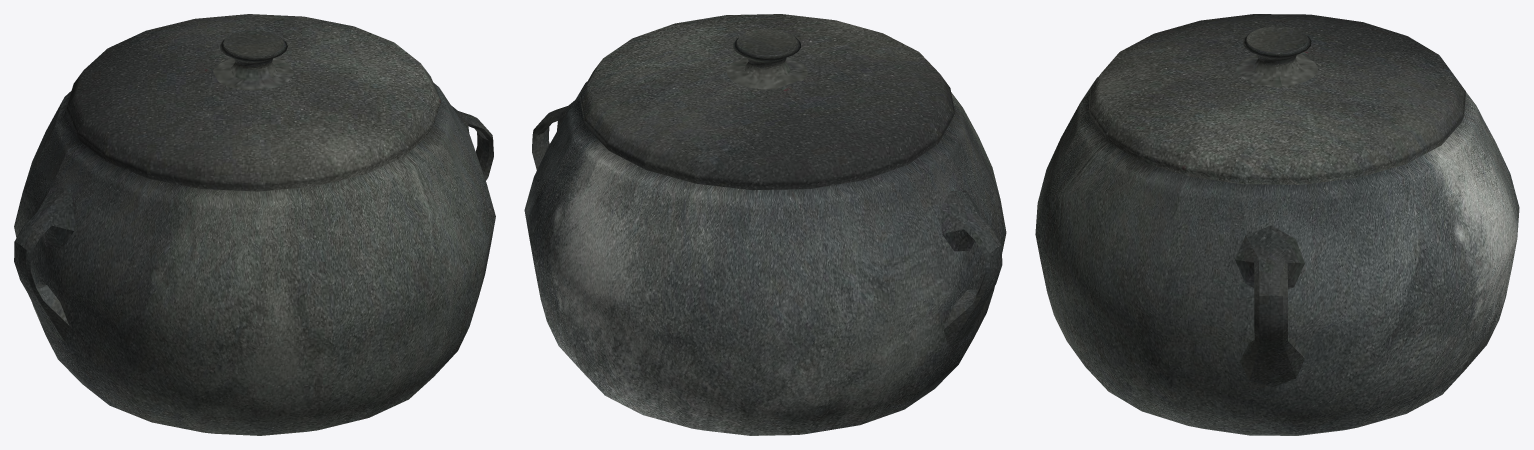
Rendered from Cauldron_01.fbx.
The picture shows the model from 3 angles, left to right: view 1: azimuth 30°, elevation 25°; view 2: azimuth 150°, elevation 25°; view 3: azimuth 270°, elevation 25°; orthographic projection.
Parts seen in each view (by area): view 1: pCylinder2; view 2: pCylinder2; view 3: pCylinder2.
Boxes of the visible parts, left/top/right/bottom form: pCylinder2: left=14, top=14, right=495, bottom=435; pCylinder2: left=524, top=14, right=1006, bottom=435; pCylinder2: left=1035, top=14, right=1519, bottom=435.
Size of the model in its own units: 769 by 528 by 685.
